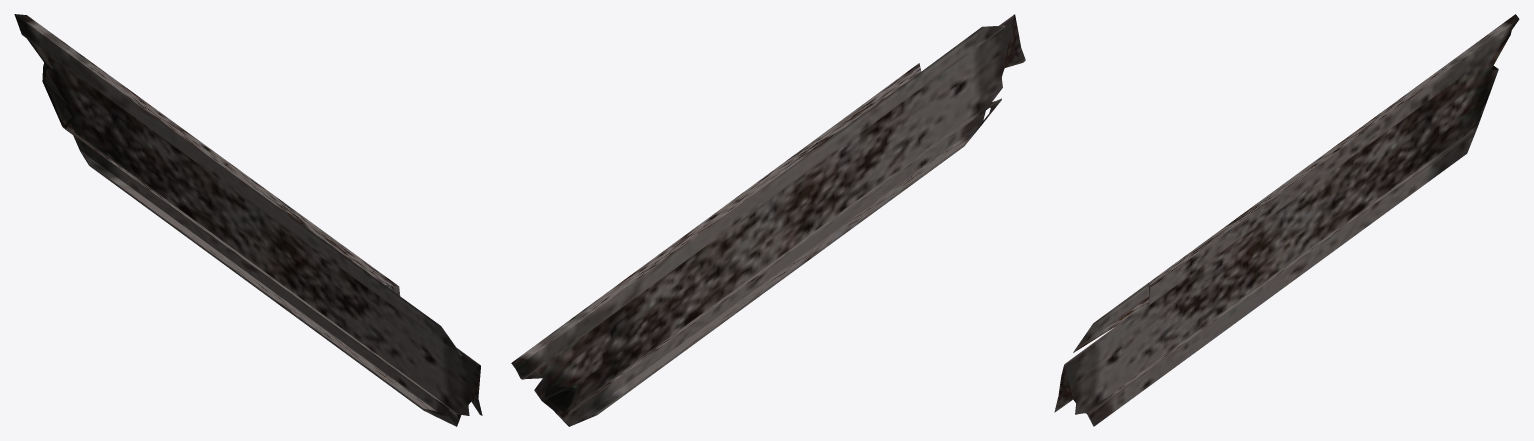
Rendered from item6.fbx.
3 renders of one model, left to right at view 1: azimuth 30°, elevation 25°; view 2: azimuth 150°, elevation 25°; view 3: azimuth 330°, elevation 25°, orthographic. The views are drawn at different scales.
Parts seen in each view (by area): view 1: Item6; view 2: Item6; view 3: Item6.
Boxes of the visible parts, x1,y1,x2,y2 form: Item6: (14, 14, 482, 426); Item6: (511, 14, 1025, 426); Item6: (1054, 14, 1519, 426).
Bounding box in the file's own units: 4.36 × 47.56 × 409.
